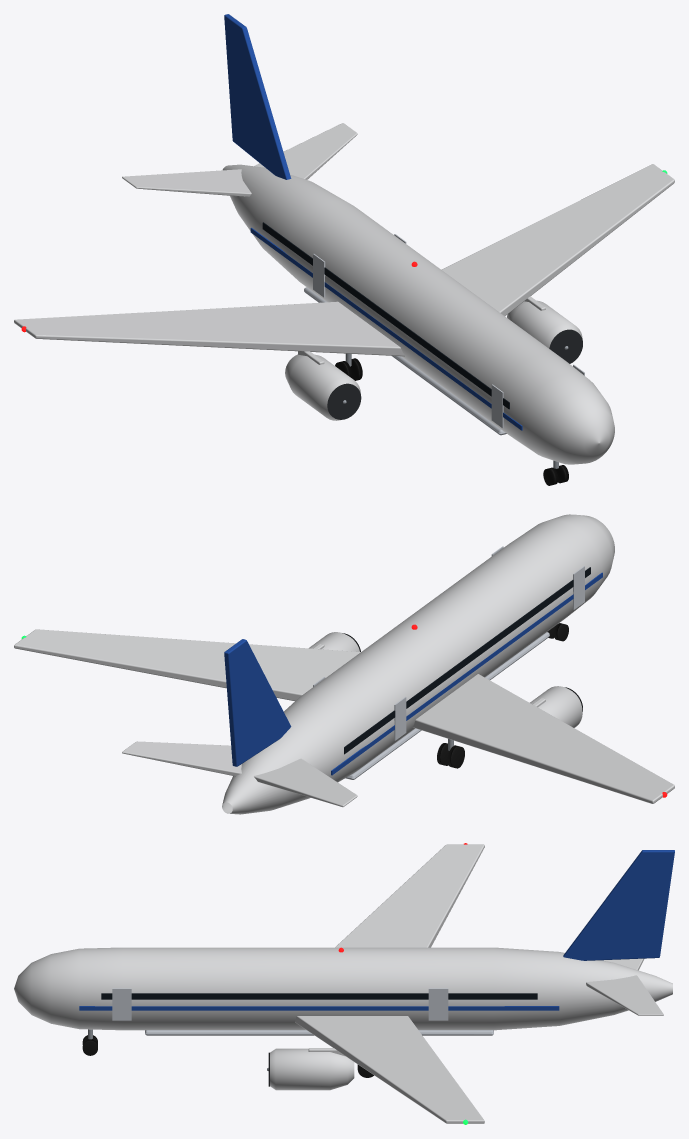
The picture shows the model from 3 angles, top to bottom: view 1: azimuth 30°, elevation 25°; view 2: azimuth 150°, elevation 25°; view 3: azimuth 270°, elevation 25°; orthographic projection. The views are drawn at different scales.
Visible parts, largest first — view 1: fuselage, wing-1, wing1, vtail, engine-1, hstab-1, hstab1, windows-1, engine1, stripe-1, intake-1, belly (+1 smaller); view 2: fuselage, wing-1, wing1, vtail, hstab1, hstab-1, windows-1, stripe-1, engine-1, belly, engine1, door-11; view 3: fuselage, wing1, vtail, wing-1, engine1, windows1, stripe1, hstab1, belly, door11, door10.
Part boxes in pixels (x1,y1,x2,y2): fuselage: (222, 164, 614, 464); wing-1: (14, 301, 404, 356); wing1: (441, 164, 674, 315); vtail: (224, 14, 291, 179); engine-1: (285, 354, 360, 420); hstab-1: (122, 169, 251, 196); hstab1: (254, 123, 357, 179); windows-1: (262, 222, 509, 409); engine1: (507, 300, 582, 348); stripe-1: (250, 227, 522, 430); intake-1: (327, 383, 361, 419); belly: (304, 287, 506, 435); fuselage: (222, 514, 614, 814); wing-1: (413, 674, 674, 803); wing1: (14, 629, 360, 701); vtail: (224, 639, 291, 766); hstab1: (122, 741, 241, 776); hstab-1: (254, 758, 357, 807); windows-1: (344, 567, 590, 754); stripe-1: (331, 572, 602, 775); engine-1: (530, 686, 582, 727); belly: (345, 632, 549, 779); engine1: (309, 632, 359, 651); door-11: (394, 697, 406, 740); fuselage: (14, 947, 672, 1030); wing1: (295, 1016, 484, 1123); vtail: (563, 850, 674, 960); wing-1: (335, 844, 484, 947); engine1: (270, 1048, 354, 1090); windows1: (101, 993, 537, 999); stripe1: (79, 1006, 559, 1010); hstab1: (586, 975, 663, 1015); belly: (145, 1030, 493, 1035); door11: (428, 988, 448, 1020); door10: (112, 988, 131, 1020).
Size of the model in its own units: 30.24 by 10.2 by 30.29.
